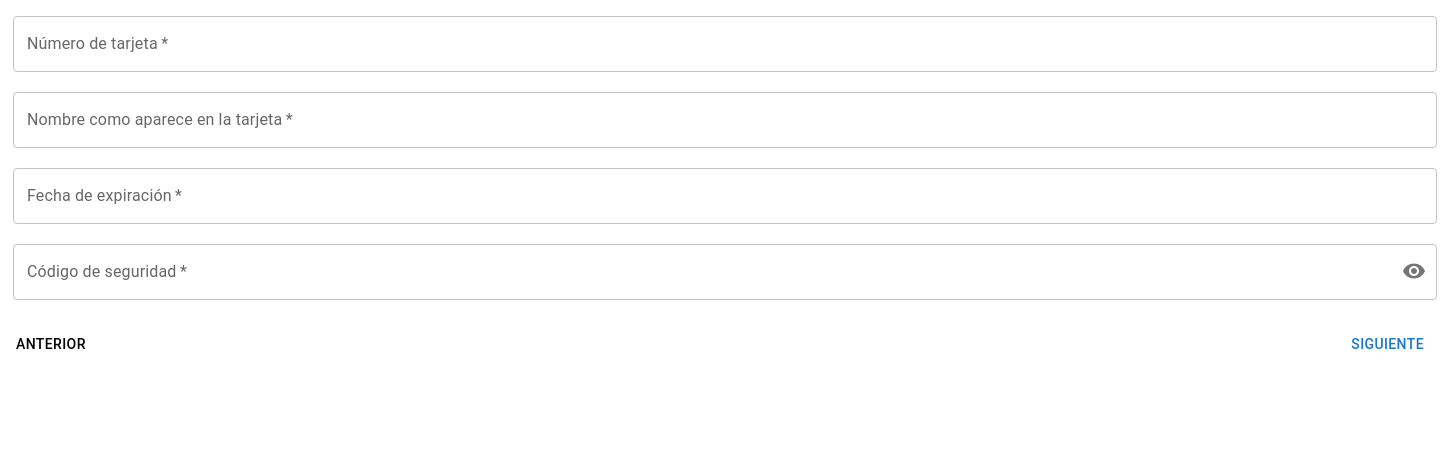
PaymentData.spec.tsx › when entering wrong values › should render inputs error when doesn't fill form
Click the button "Siguiente".
click(1388, 344)  # box [1343,326,1432,362]
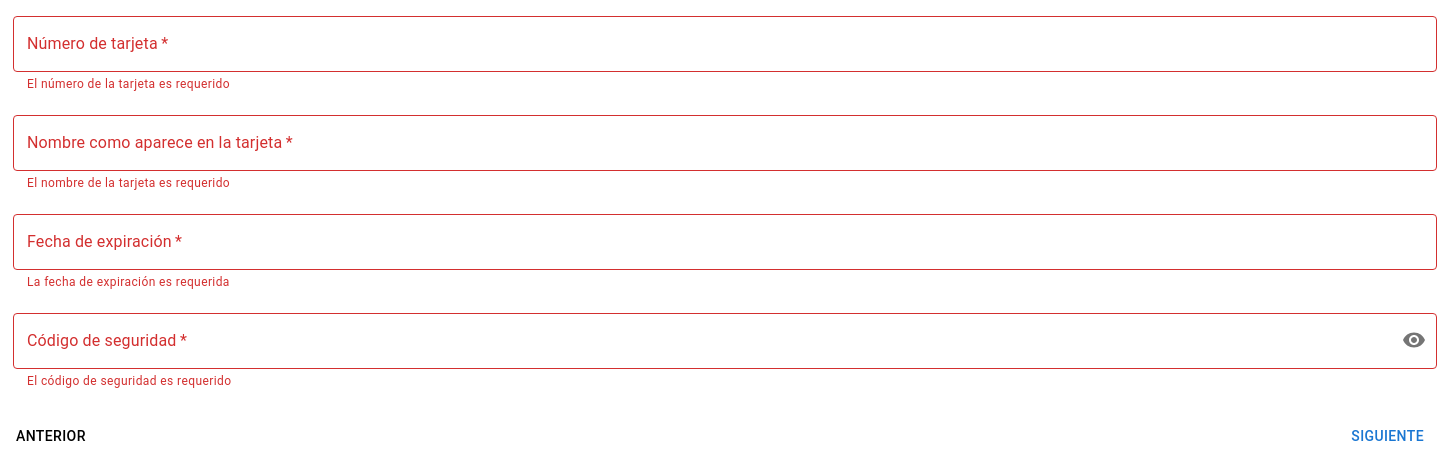
Result: the text "El número de la tarjeta es requerido" is shown at [27,77,230,91]
Result: the text "El nombre de la tarjeta es requerido" is shown at [27,176,230,190]
Result: the text "La fecha de expiración es requerida" is shown at [27,275,230,289]
